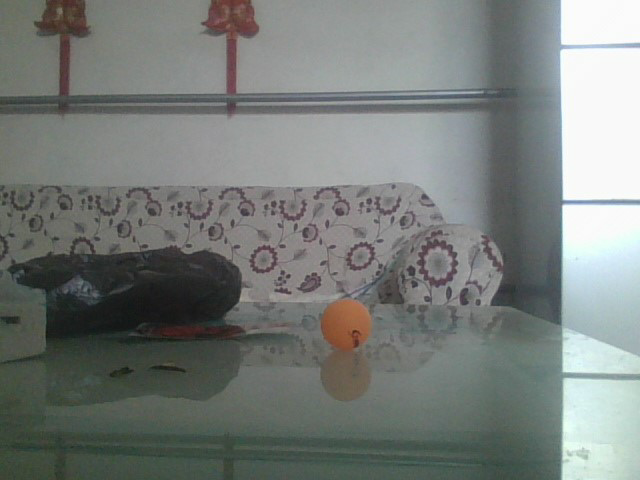ball: (323, 299, 372, 351)
